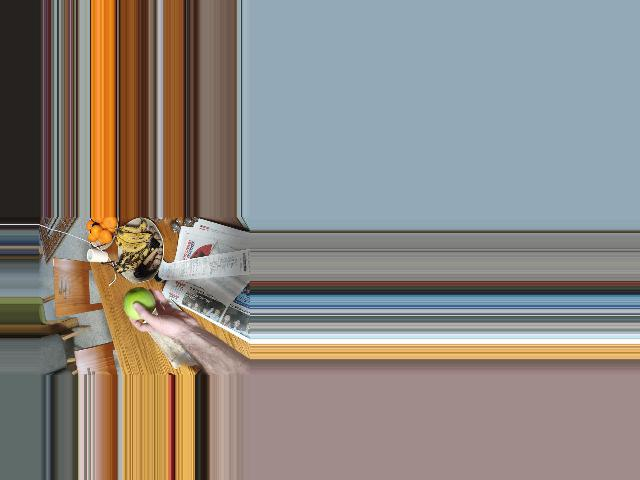apple: (121, 287, 158, 315)
